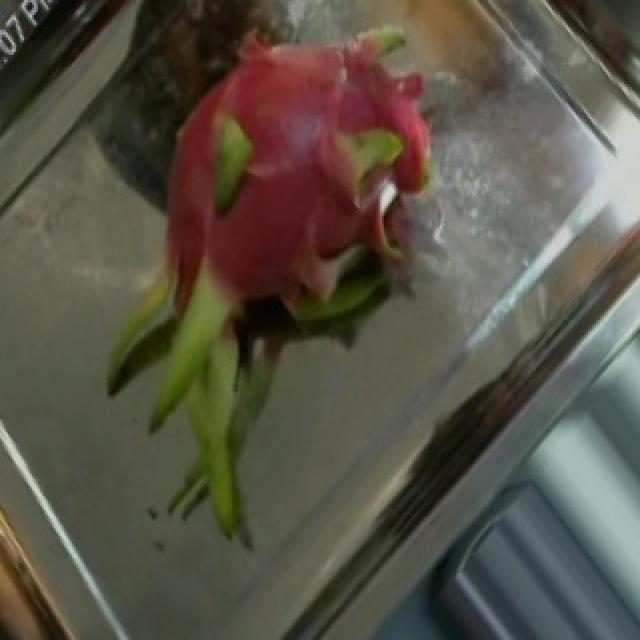fruit: (10, 5, 340, 439)
